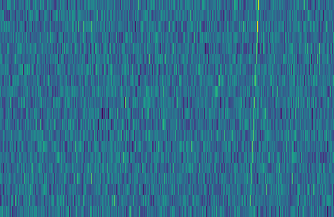signal: (246, 0, 264, 217)
